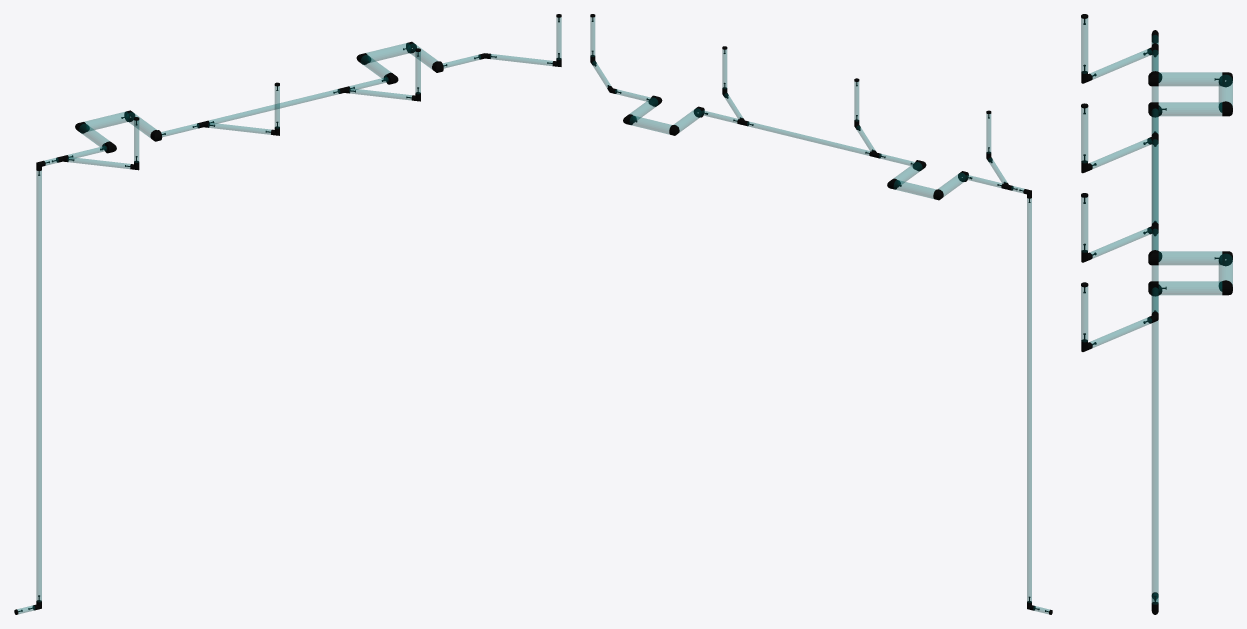
Rendered from Serialize.gltf.
3 renders of one model, left to right at view 1: azimuth 30°, elevation 25°; view 2: azimuth 150°, elevation 25°; view 3: azimuth 270°, elevation 25°, orthographic. The views are drawn at different scales.
Parts seen in each view (by area): view 1: 8de42719-05ec-4a3f-b80d-c967cfd587c1_mesh, 13a62523-1102-401f-8726-ffad4a2be199_mesh; view 2: 8de42719-05ec-4a3f-b80d-c967cfd587c1_mesh, 13a62523-1102-401f-8726-ffad4a2be199_mesh; view 3: 8de42719-05ec-4a3f-b80d-c967cfd587c1_mesh, de4d0616-845b-4872-bcd2-ceef6b75a7ab_mesh, dd14f29c-5d70-4cdf-b927-dba196f38b0e_mesh, 80db1b52-b277-4a08-a529-3f09f11446f8_mesh, 106adb2f-41d5-4766-8d36-b08c84badf17_mesh, 13a62523-1102-401f-8726-ffad4a2be199_mesh, f6997ccb-5083-4f06-9d1e-21b2270e415b_mesh, 564dc92c-88aa-4228-8240-f7d84e07e4ad_mesh, d75f3491-e080-4e06-b015-7bf515576afa_mesh, 5d54051c-7277-447d-ae69-0b4fd3865c9e_mesh, f9090621-e478-4633-9c4c-2df2e25f94a4_mesh, 189971ae-ea4c-444b-a375-1442cfbddb30_mesh (+4 smaller).
Part boxes in pixels (box(x1,y1,x2,y2)): 8de42719-05ec-4a3f-b80d-c967cfd587c1_mesh: box(36, 170, 41, 601); 13a62523-1102-401f-8726-ffad4a2be199_mesh: box(209, 89, 339, 124); 8de42719-05ec-4a3f-b80d-c967cfd587c1_mesh: box(1027, 198, 1031, 602); 13a62523-1102-401f-8726-ffad4a2be199_mesh: box(747, 121, 870, 155); 8de42719-05ec-4a3f-b80d-c967cfd587c1_mesh: box(1152, 43, 1158, 604); de4d0616-845b-4872-bcd2-ceef6b75a7ab_mesh: box(1159, 72, 1221, 85); dd14f29c-5d70-4cdf-b927-dba196f38b0e_mesh: box(1159, 102, 1221, 115); 80db1b52-b277-4a08-a529-3f09f11446f8_mesh: box(1159, 251, 1221, 264); 106adb2f-41d5-4766-8d36-b08c84badf17_mesh: box(1159, 281, 1221, 294); 13a62523-1102-401f-8726-ffad4a2be199_mesh: box(1152, 139, 1158, 223); f6997ccb-5083-4f06-9d1e-21b2270e415b_mesh: box(1090, 138, 1151, 168); 564dc92c-88aa-4228-8240-f7d84e07e4ad_mesh: box(1090, 49, 1151, 79); d75f3491-e080-4e06-b015-7bf515576afa_mesh: box(1090, 228, 1151, 258); 5d54051c-7277-447d-ae69-0b4fd3865c9e_mesh: box(1090, 317, 1151, 347); f9090621-e478-4633-9c4c-2df2e25f94a4_mesh: box(1219, 75, 1232, 112); 189971ae-ea4c-444b-a375-1442cfbddb30_mesh: box(1219, 253, 1232, 291).
Size of the model in its own units: 11.05 by 10.05 by 2.15.
